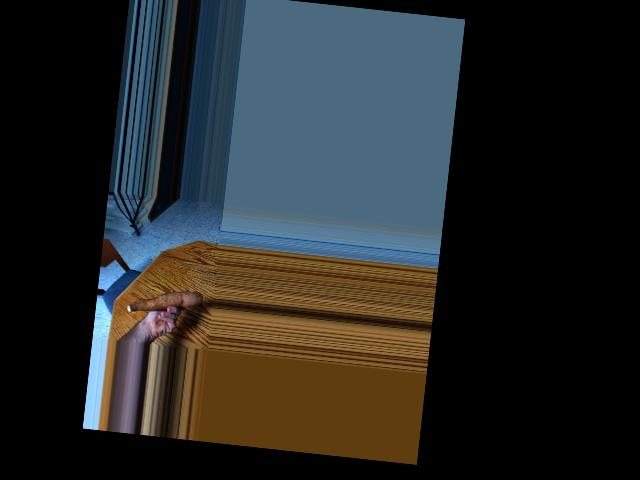sweet_potato: (127, 280, 201, 323)
